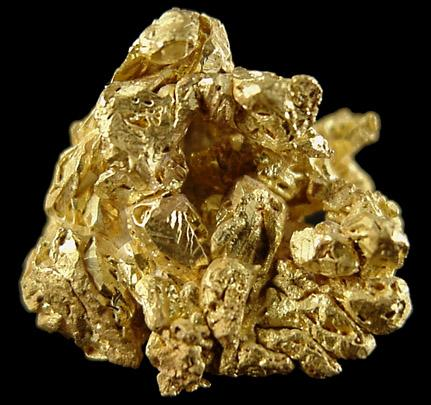gold: (21, 9, 412, 396)
